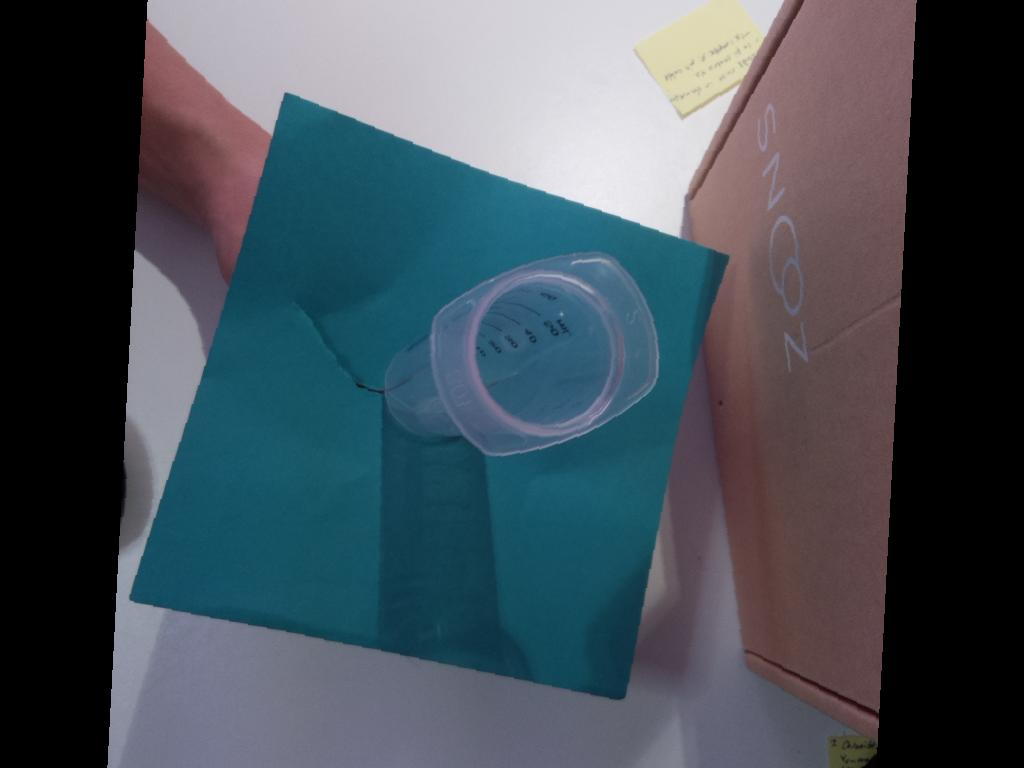clean: (431, 248, 661, 459)
